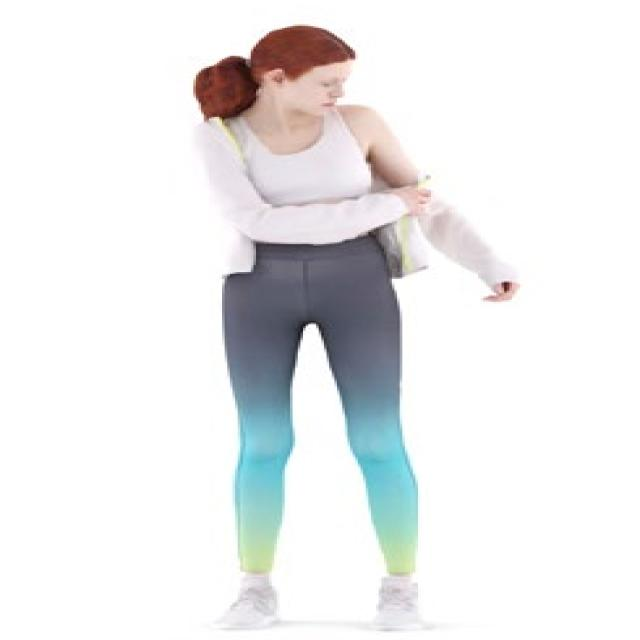standing: (185, 21, 530, 638)
